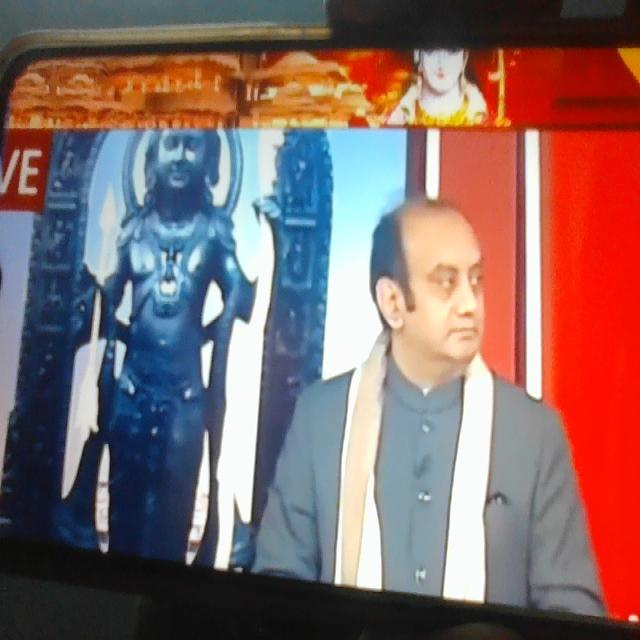fake: (375, 140, 511, 397)
